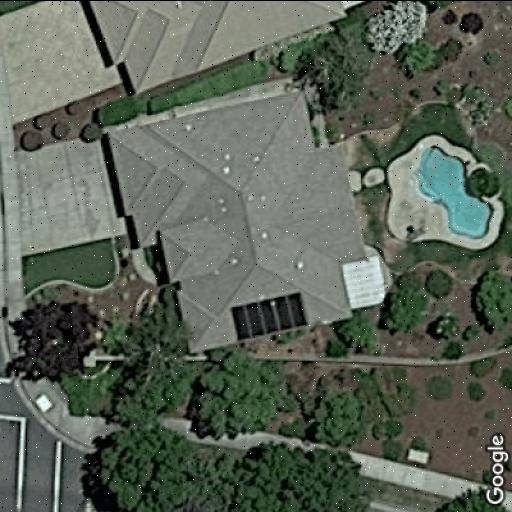solar-panel: (228, 288, 310, 340)
